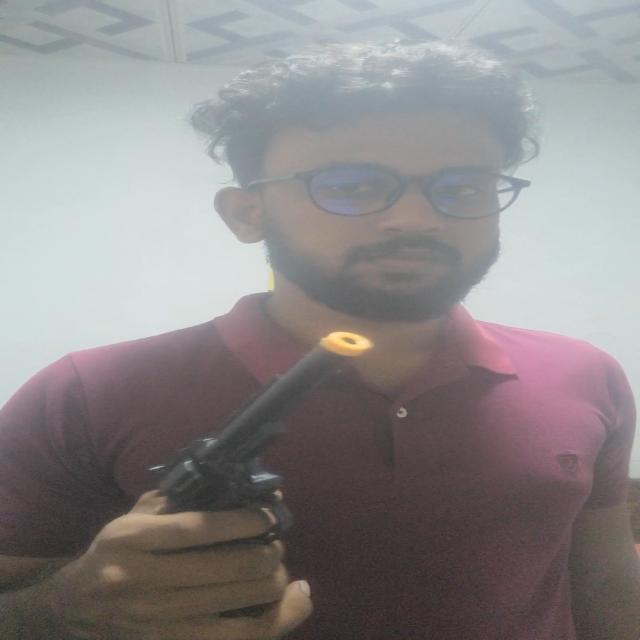Gun_Holder: (21, 306, 410, 640)
Person: (4, 43, 640, 640)
